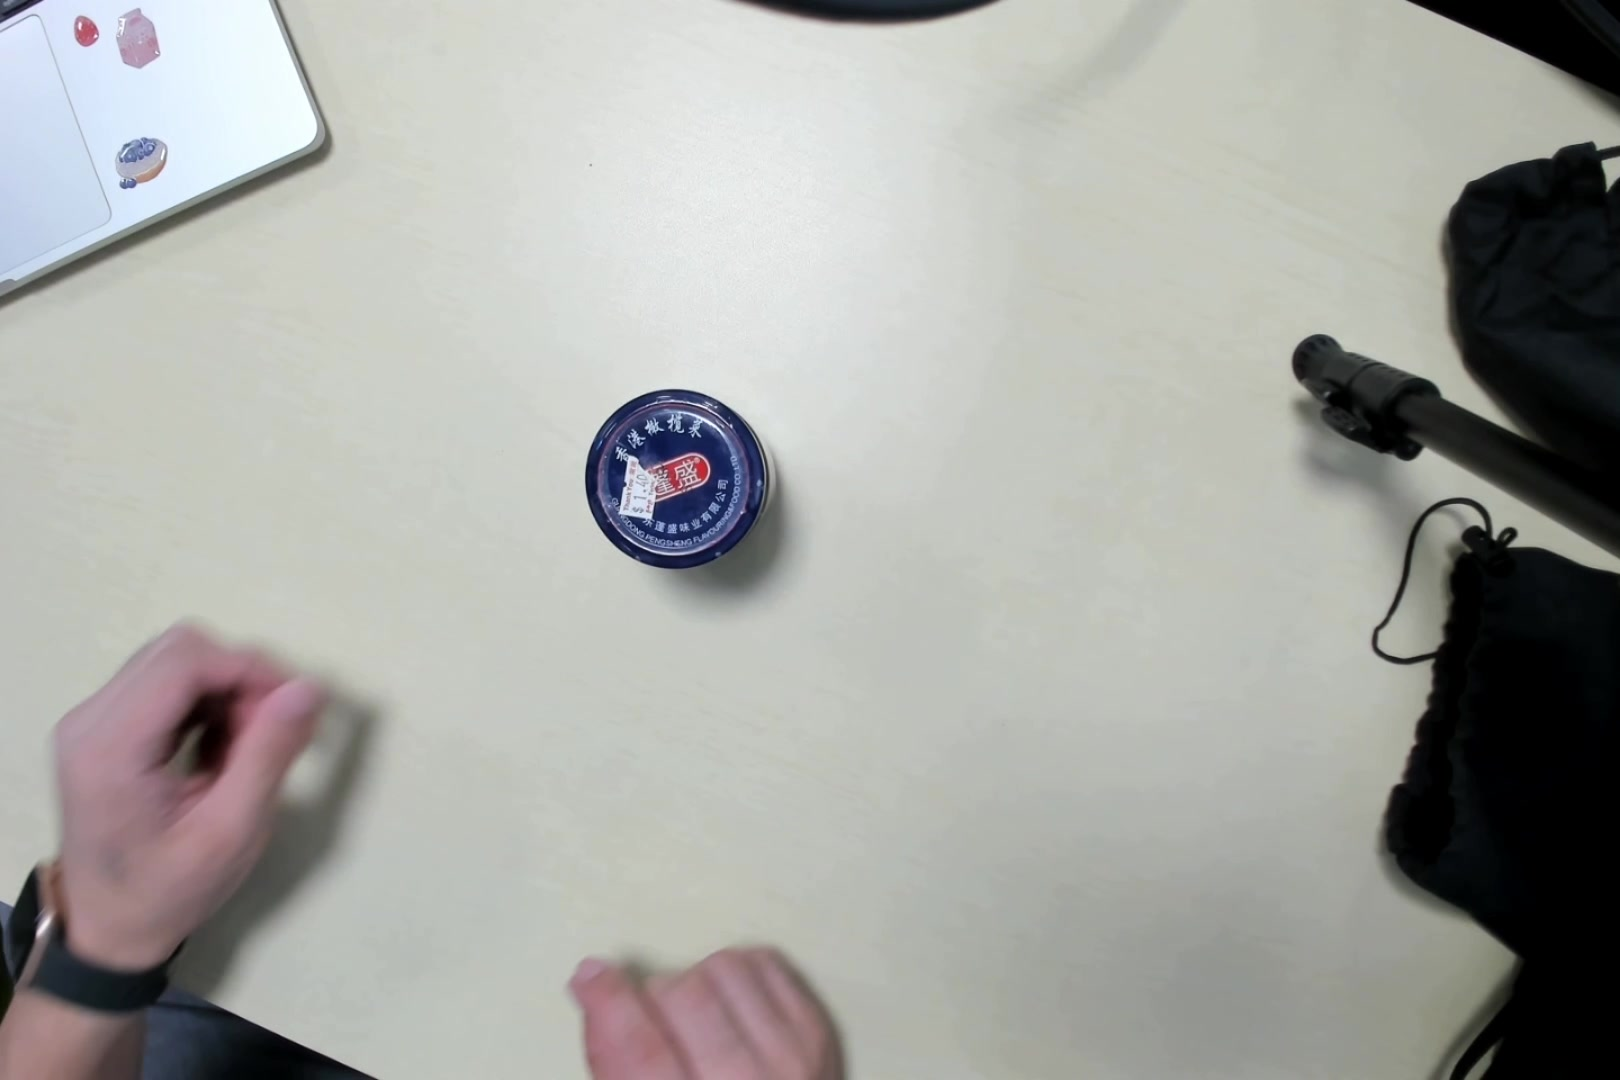OtherCannedVegetables_100-199g_Halal_NonHealthy: (586, 391, 770, 569)
